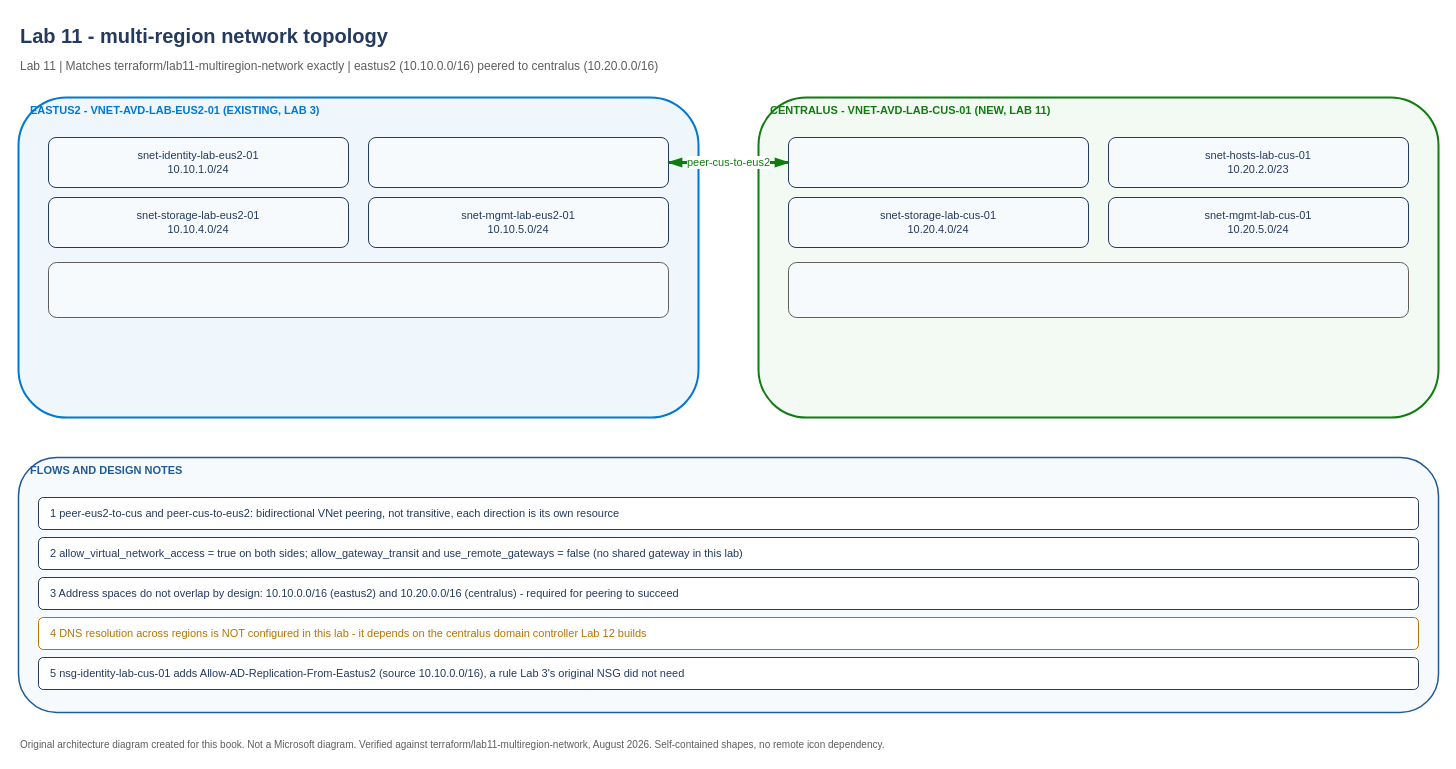
Image size: 1456x769. Some labels were removed from this diagram. Each missing label, with the centre of its shape:
nsg-hosts-lab-cus-01 + nsg-identity, nsg-storage: point 1098,290
nsg-hosts-lab-eus2-01 + nsg-identity, nsg-storage: point 358,290
snet-hosts-lab-eus2-01 10.10.2.0/23: point 518,162
snet-identity-lab-cus-01 10.20.1.0/24: point 938,162
